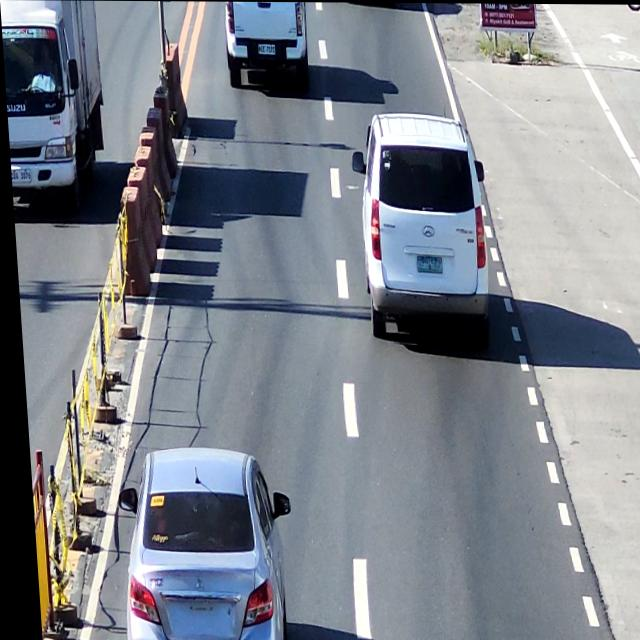Car: (109, 443, 287, 640), (353, 106, 492, 351), (224, 1, 311, 88)
License-Plate: (411, 253, 442, 274), (9, 164, 31, 184), (256, 40, 278, 59)
Truck: (0, 0, 104, 217)
